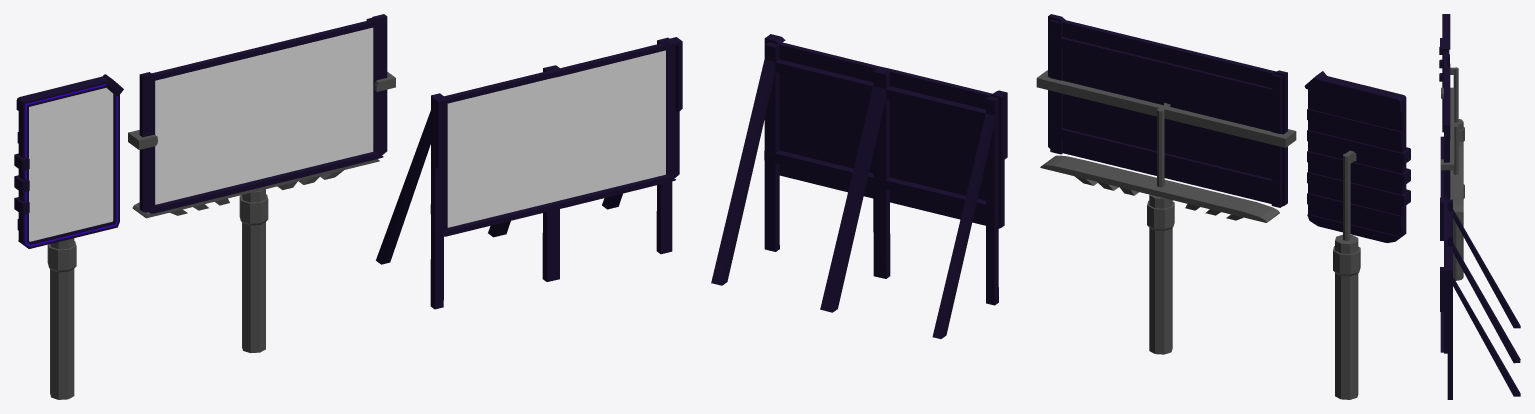
Rendered from P_RoofBillboards.fbx.
3 renders of one model, left to right at view 1: azimuth 30°, elevation 25°; view 2: azimuth 150°, elevation 25°; view 3: azimuth 270°, elevation 25°, orthographic. The views are drawn at different scales.
Visible parts, largest first — view 1: Screen_Billboard2.001, Screen_Billboard2, Billboard2.001, Screen_Billboard1, Billboard2, Cylinder.003, Billboard1, Cylinder.002, Cube.001; view 2: Billboard2.001, Billboard2, Billboard1, Cylinder.003, Cylinder.002, Cube.001; view 3: Billboard2.001, Cylinder.003, Billboard2, Cube.001, Billboard1, Cylinder.002.
Boxes of the visible parts, x1,y1,x2,y2 form: Screen_Billboard2.001: [447, 50, 665, 227]; Screen_Billboard2: [155, 27, 373, 204]; Billboard2.001: [376, 37, 682, 309]; Screen_Billboard1: [29, 87, 113, 241]; Billboard2: [139, 14, 387, 213]; Cylinder.003: [128, 72, 395, 353]; Billboard1: [14, 74, 123, 248]; Cylinder.002: [47, 238, 76, 399]; Cube.001: [132, 159, 379, 218]; Billboard2.001: [711, 34, 1007, 338]; Billboard2: [1048, 14, 1287, 207]; Billboard1: [1304, 71, 1410, 242]; Cylinder.003: [1036, 70, 1296, 354]; Cylinder.002: [1333, 150, 1360, 399]; Cube.001: [1040, 155, 1279, 222]; Billboard2.001: [1440, 197, 1520, 399]; Cylinder.003: [1441, 87, 1464, 280]; Billboard2: [1440, 52, 1450, 199]; Cube.001: [1450, 141, 1463, 212]; Billboard1: [1439, 14, 1450, 132]; Cylinder.002: [1450, 67, 1464, 141].
Bounding box in the file's own units: 3959 × 1806 × 686.
